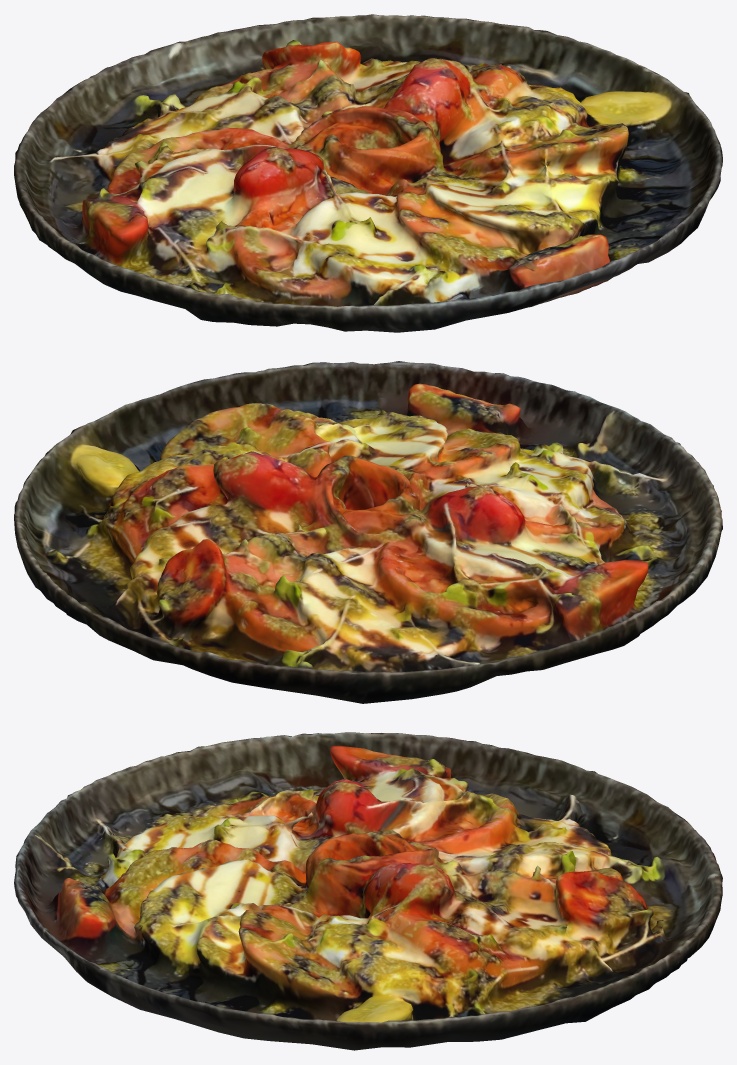
The model's file is salade-caprese.ar.glb.
3 views of the same model, one above another, from view 1: azimuth 30°, elevation 25°; view 2: azimuth 150°, elevation 25°; view 3: azimuth 270°, elevation 25° (orthographic).
Parts seen in each view (by area): view 1: /ObjectCapture/Geometry/Mesh; view 2: /ObjectCapture/Geometry/Mesh; view 3: /ObjectCapture/Geometry/Mesh.
Boxes of the visible parts, x1,y1,x2,y2 form: /ObjectCapture/Geometry/Mesh: (14, 14, 722, 332); /ObjectCapture/Geometry/Mesh: (14, 361, 722, 703); /ObjectCapture/Geometry/Mesh: (14, 732, 722, 1050).
Bounding box in the file's own units: 0.2755 × 0.0478 × 0.2756.
Materials: 1 (1 with a texture image).
